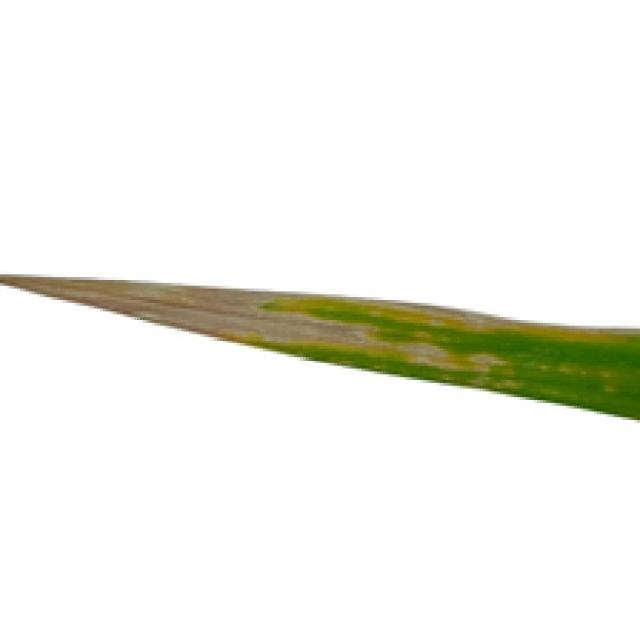Rice___Bacterial_Leaf_Blight: (0, 273, 637, 426)
